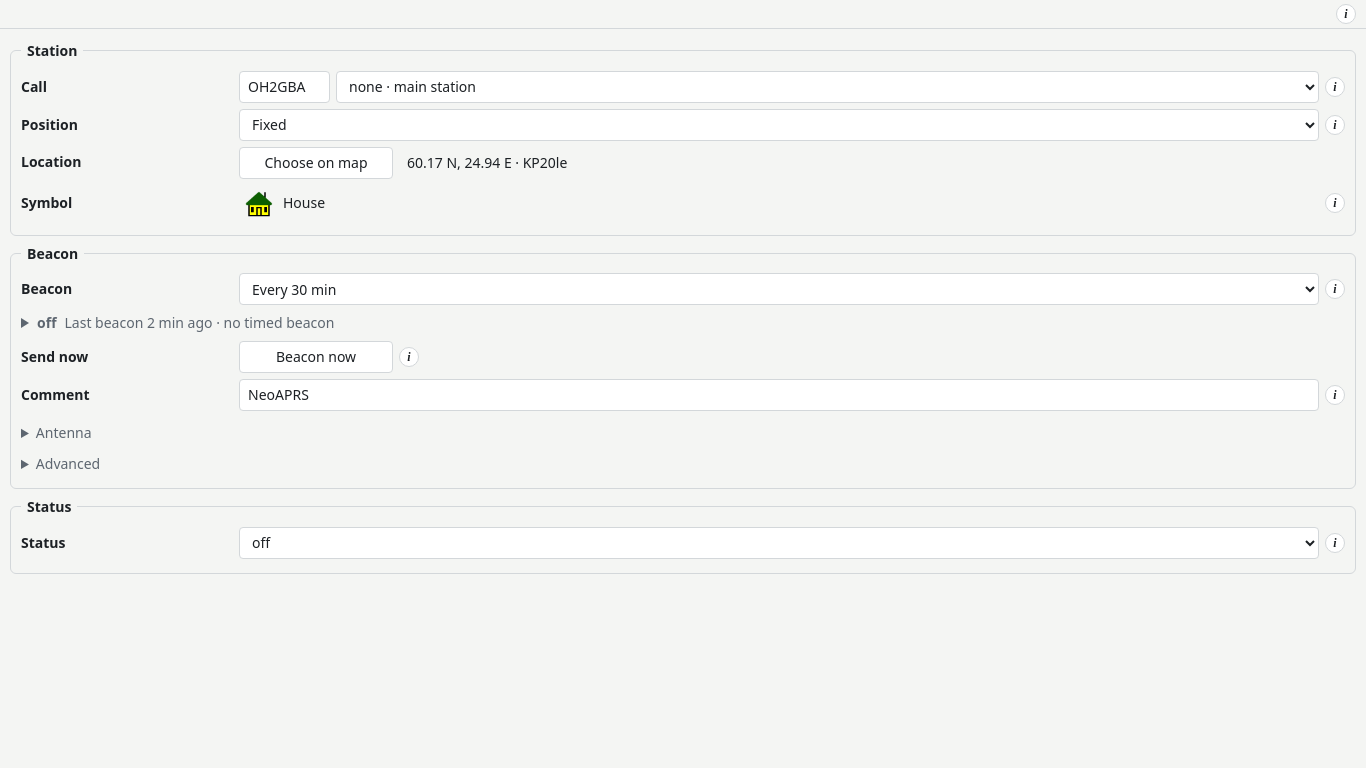
Scenario: BeaconPane › has the (i) of the tab at the top, which says what the beacon is, with its picture
The image size is (1366, 768).
Click the 1st button with class "info-toggle". click: click(1346, 14)
box: [1336,4,1356,24]
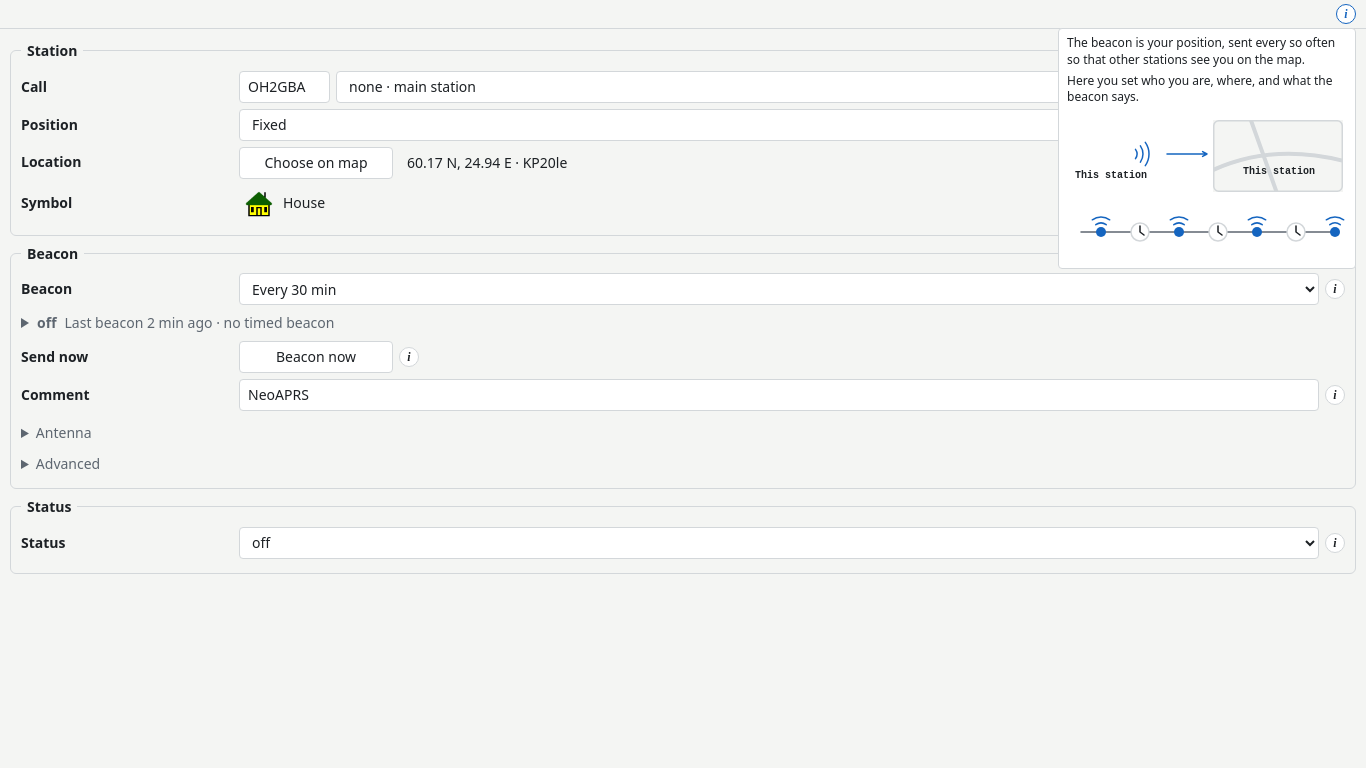
Check: the element with class "info-text" shows "The beacon is your position, sent every so often", box [1067,34,1335,68]
